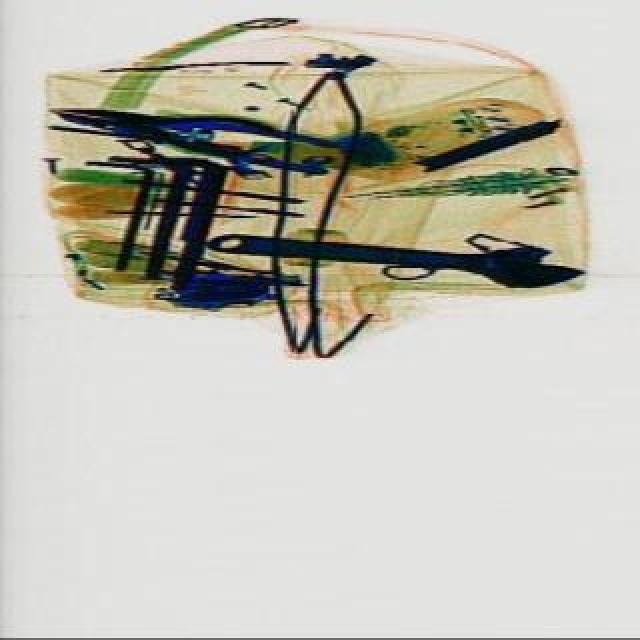scissors: (202, 216, 582, 292)
wrench: (44, 86, 272, 160)
